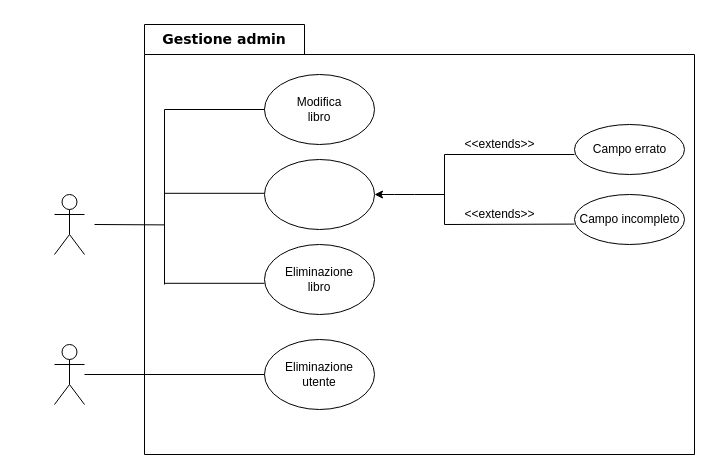
Image size: 712x472. Some labels were removed from this diagram. The box of each missing label's shape, as (x1, y1, x2, y2) in pixels:
Catalogue Manager: (54, 194, 84, 254)
Customer Manager: (54, 344, 84, 404)
Inserimento libro: (264, 158, 374, 230)
